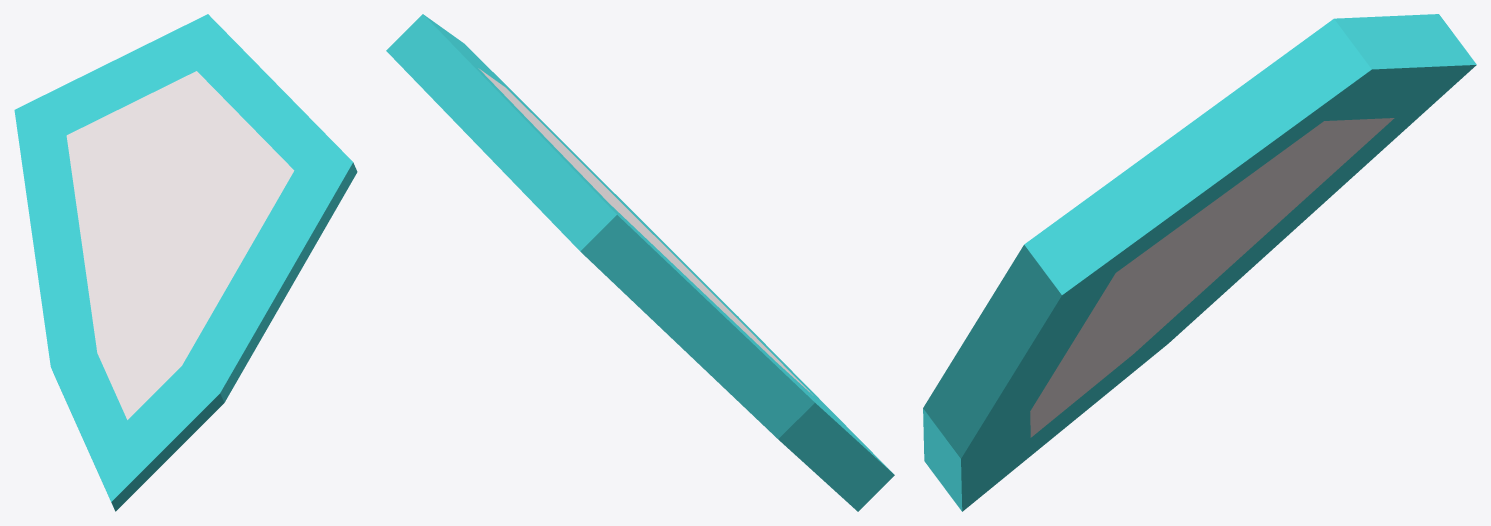
File: wing_r.glb
3 views of the same model, side by side, from view 1: azimuth 30°, elevation 25°; view 2: azimuth 150°, elevation 25°; view 3: azimuth 270°, elevation 25° (orthographic). The views are drawn at different scales.
Parts seen in each view (by area): view 1: WingR; view 2: WingR; view 3: WingR.
Boxes of the visible parts, left/top/right/bottom form: WingR: left=14, top=14, right=357, bottom=511; WingR: left=386, top=14, right=894, bottom=511; WingR: left=923, top=14, right=1476, bottom=511.
Size of the model in its own units: 0.4137 by 0.5134 by 0.388.
